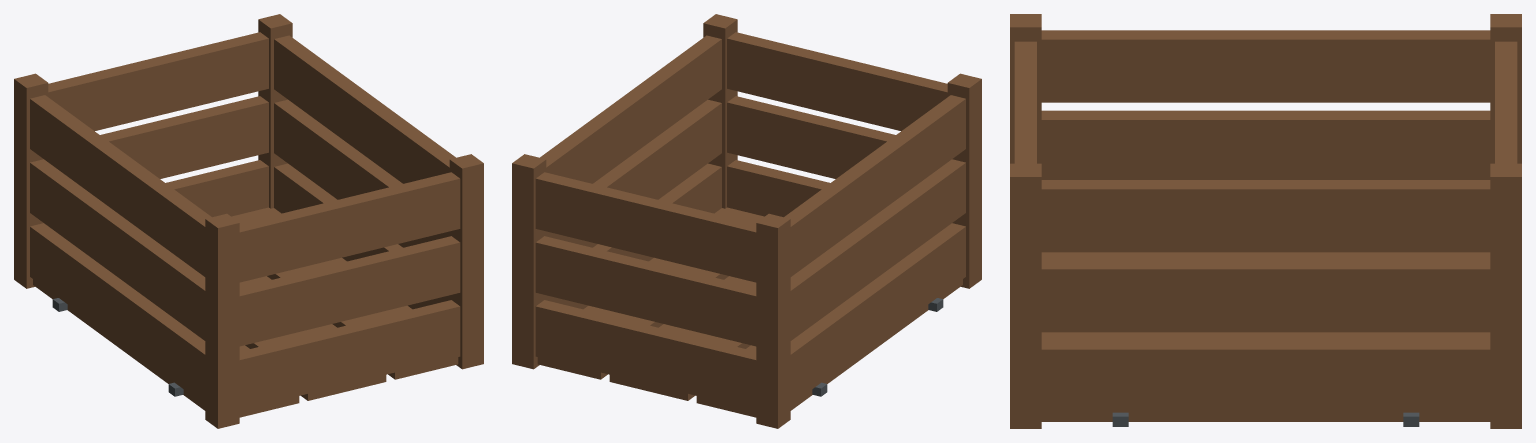
The model's file is SM_Module_CargoCrate.glb.
The picture shows the model from 3 angles, left to right: view 1: azimuth 30°, elevation 25°; view 2: azimuth 150°, elevation 25°; view 3: azimuth 270°, elevation 25°; orthographic projection. The views are drawn at different scales.
Visible parts, largest first — view 1: SM_Module_CargoCrate; view 2: SM_Module_CargoCrate; view 3: SM_Module_CargoCrate.
Boxes of the visible parts, x1,y1,x2,y2 form: SM_Module_CargoCrate: (14,14,483,428); SM_Module_CargoCrate: (512,14,981,428); SM_Module_CargoCrate: (1010,14,1521,428).
Size of the model in its own units: 0.62 by 0.44 by 0.81.
